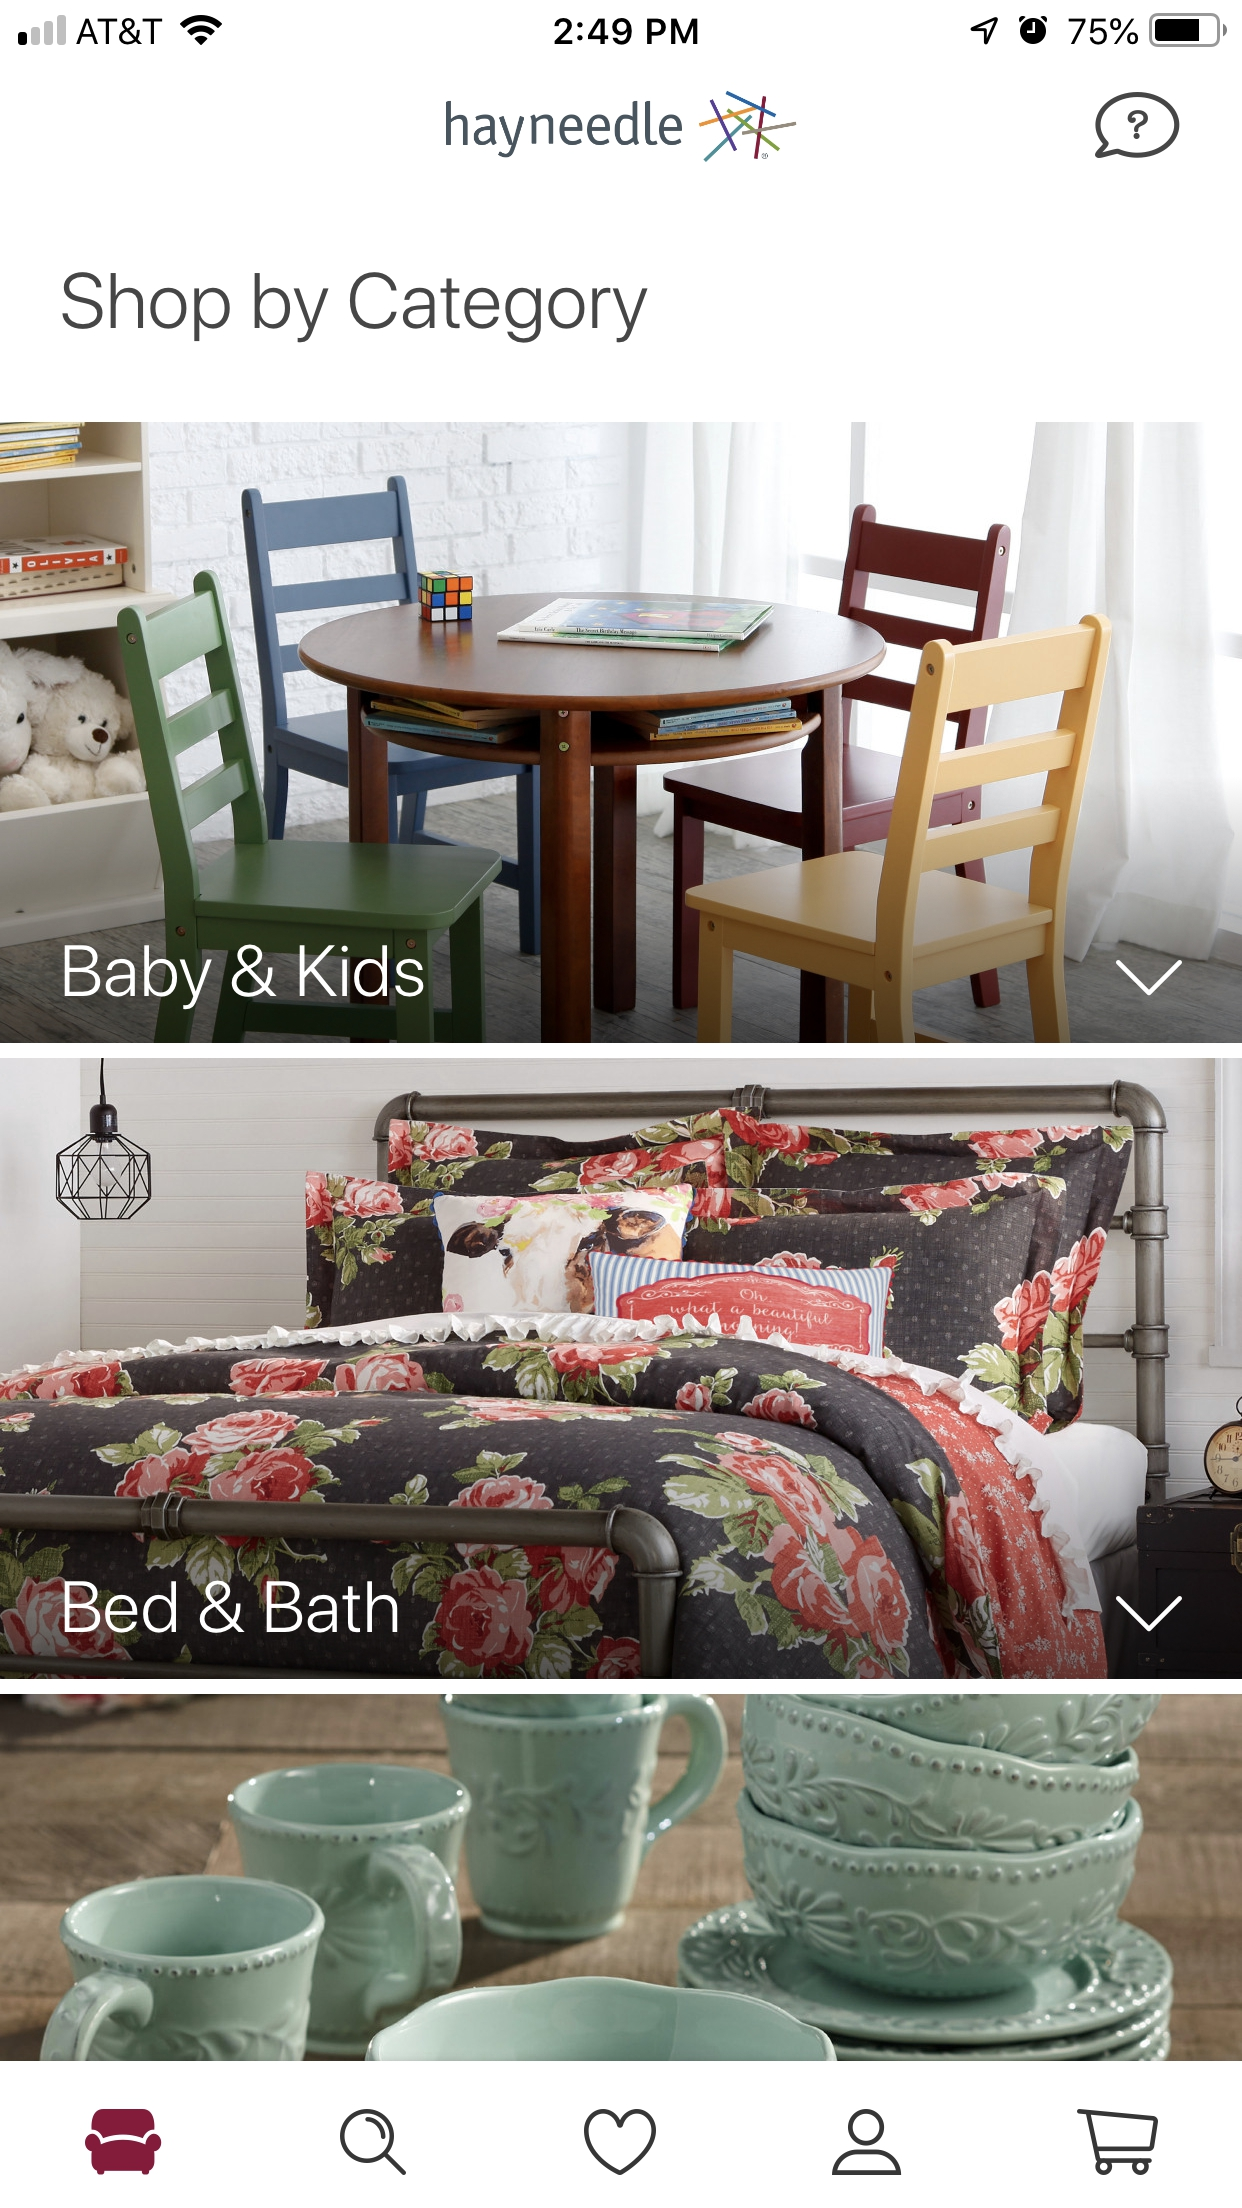Icon: (1093, 93, 1180, 161), (1077, 2109, 1159, 2175), (584, 2108, 658, 2175), (831, 2108, 902, 2176), (340, 2108, 406, 2175), (1115, 1595, 1183, 1633), (1115, 960, 1181, 996)
Image: (2, 422, 1242, 1043), (2, 1059, 1242, 1679), (2, 1694, 1242, 2061), (699, 93, 798, 162), (85, 2108, 162, 2175)
Text: (64, 273, 648, 343), (64, 945, 425, 1011), (64, 1580, 399, 1635), (444, 102, 682, 159)
UpperTaskBar: (2, 2, 1242, 49)
